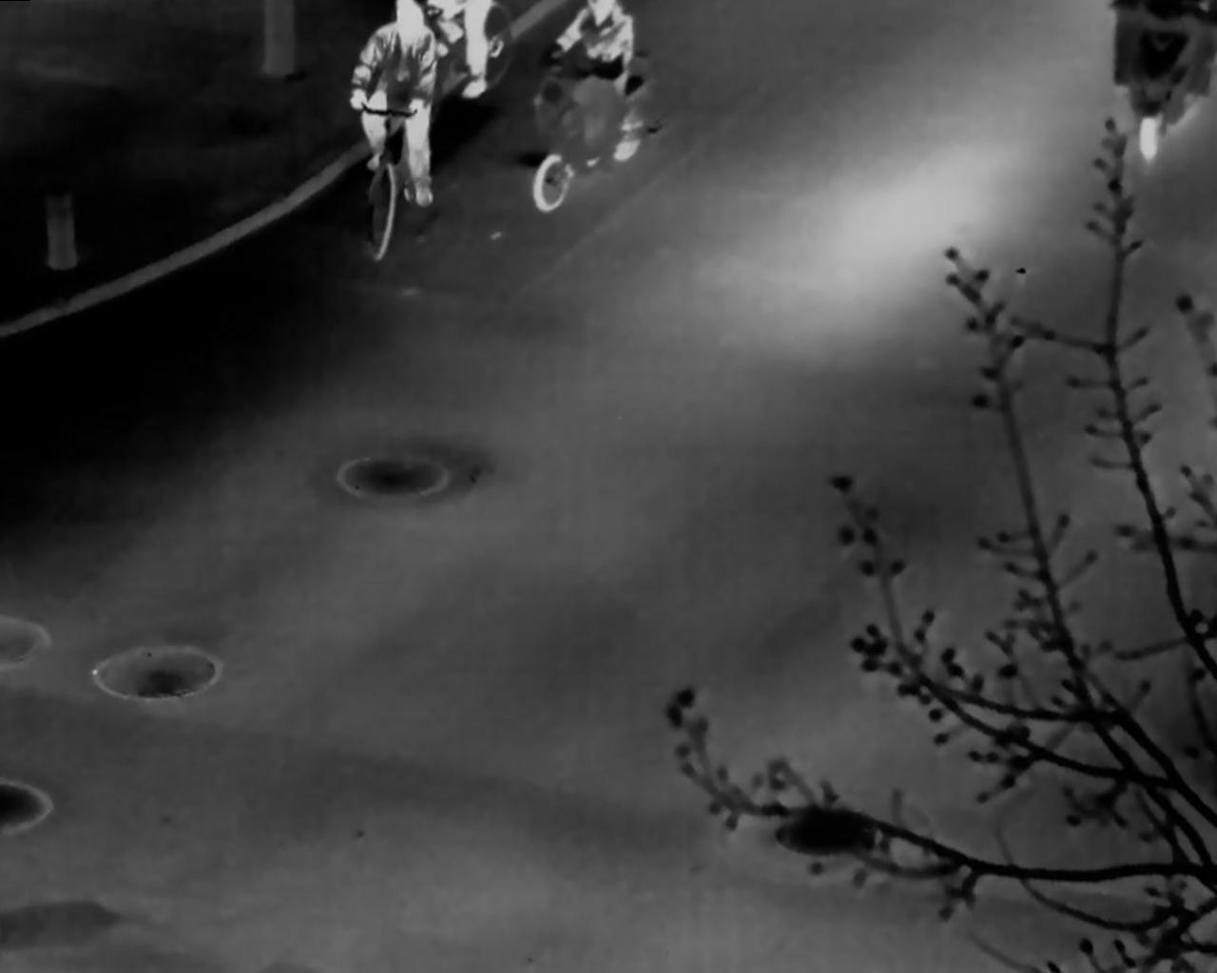person: (349, 2, 437, 209)
